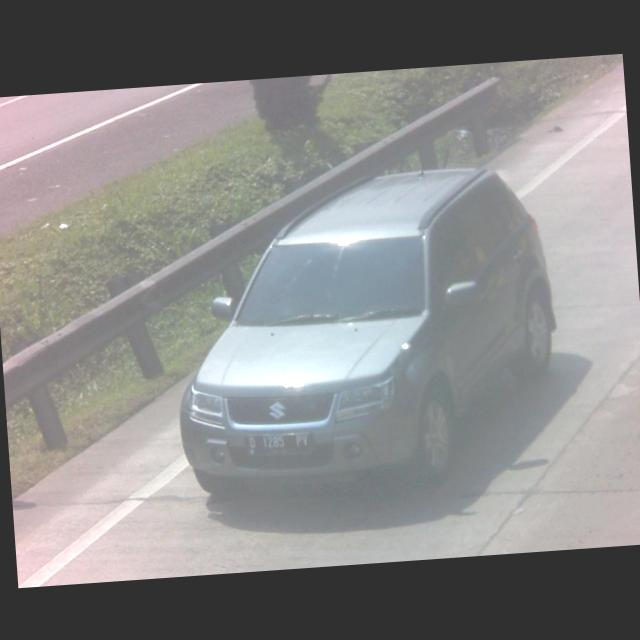plate: (240, 428, 312, 459)
